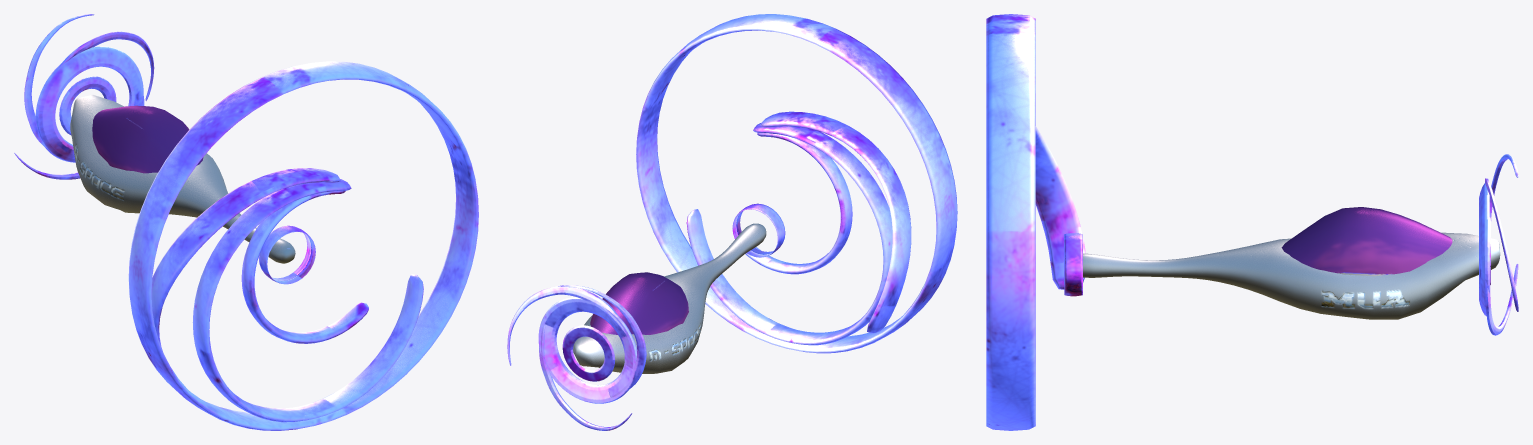
Rendered from MysticonsVehicle.glb.
The picture shows the model from 3 angles, left to right: view 1: azimuth 30°, elevation 25°; view 2: azimuth 150°, elevation 25°; view 3: azimuth 270°, elevation 25°; orthographic projection. The views are drawn at different scales.
Parts seen in each view (by area): view 1: 圆环.003; view 2: 圆环.003; view 3: 圆环.003.
Part boxes in pixels (bbox=[...]): 圆环.003: bbox=[14, 14, 478, 430]; 圆环.003: bbox=[507, 14, 957, 430]; 圆环.003: bbox=[986, 14, 1518, 430].
Size of what is drawn, in the model's own units: 5.45 by 5.45 by 6.95.
Materials: 2 (2 with a texture image).
